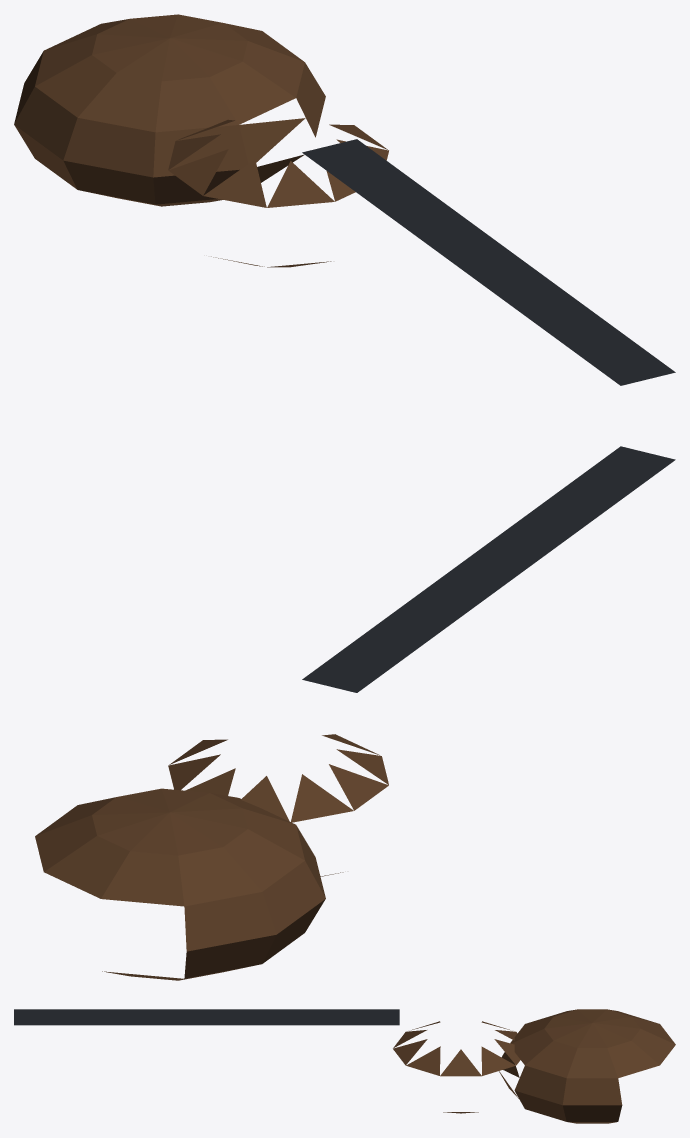
The model's file is mandoviol.lod.glb.
3 views of the same model, one above another, from view 1: azimuth 30°, elevation 25°; view 2: azimuth 150°, elevation 25°; view 3: azimuth 270°, elevation 25° (orthographic). The views are drawn at different scales.
Parts seen in each view (by area): view 1: m; view 2: m; view 3: m.
Boxes of the visible parts, left/top/right/bottom form: m: left=14, top=14, right=675, bottom=385; m: left=35, top=446, right=675, bottom=980; m: left=14, top=1009, right=675, bottom=1123.
Size of the model in its own units: 0.0993 by 0.0556 by 0.3586.
